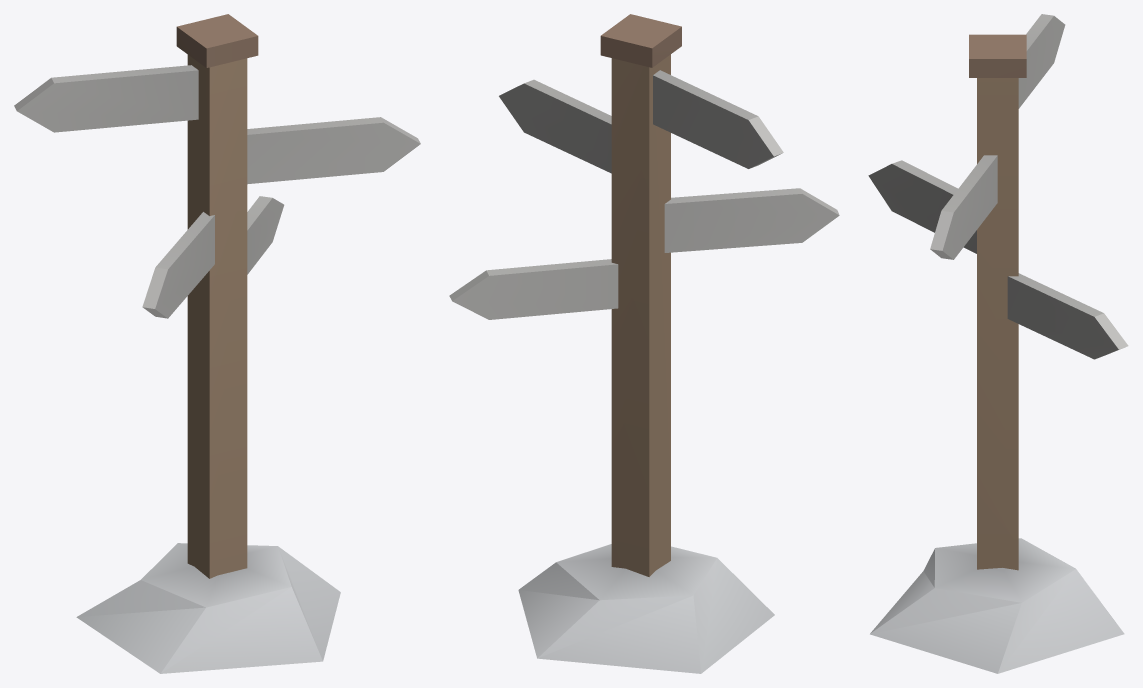
File: finger.lod2.glb
The picture shows the model from 3 angles, left to right: view 1: azimuth 30°, elevation 25°; view 2: azimuth 150°, elevation 25°; view 3: azimuth 270°, elevation 25°; orthographic projection. The views are drawn at different scales.
Bounding box in the file's own units: 1.46 × 2.4 × 0.9952.
